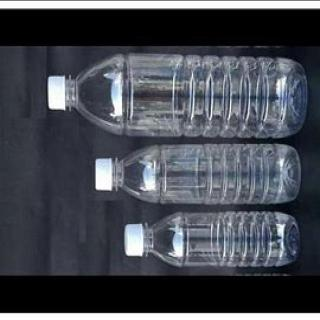Anorganik: (40, 50, 310, 128), (88, 139, 304, 201), (122, 208, 302, 272)
